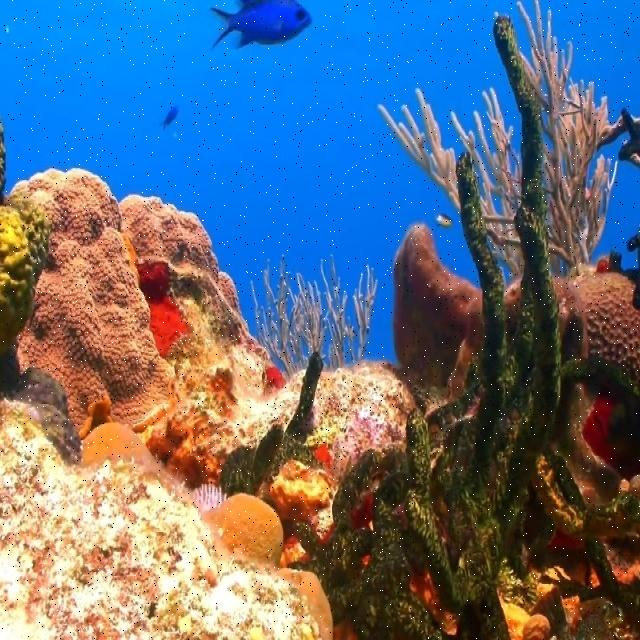fish: (210, 1, 313, 53)
reefs: (288, 15, 639, 639), (3, 167, 219, 430), (250, 252, 381, 375), (218, 351, 325, 499)
